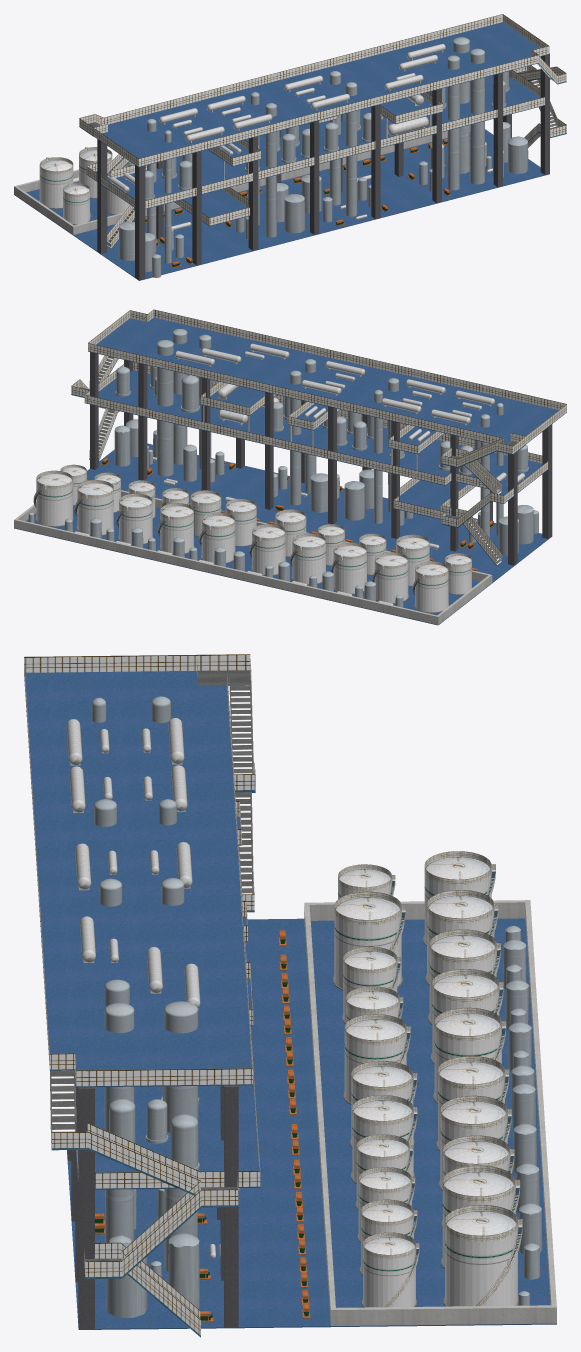
The model's file is tileset.gltf.
The picture shows the model from 3 angles, top to bottom: view 1: azimuth 30°, elevation 25°; view 2: azimuth 150°, elevation 25°; view 3: azimuth 270°, elevation 25°; orthographic projection. The views are drawn at different scales.
Visible parts, largest first — view 1: 400车间402工段-3F-1F, 400车间402工段-3F-3F, 400车间402工段-3F-2F; view 2: 400车间402工段-3F-1F, 400车间402工段-3F-3F, 400车间402工段-3F-2F; view 3: 400车间402工段-3F-1F, 400车间402工段-3F-3F, 400车间402工段-3F-2F.
Part boxes in pixels (bbox=[...]): 400车间402工段-3F-1F: bbox=[14, 79, 566, 280]; 400车间402工段-3F-3F: bbox=[79, 14, 549, 167]; 400车间402工段-3F-2F: bbox=[86, 53, 566, 210]; 400车间402工段-3F-1F: bbox=[14, 384, 552, 625]; 400车间402工段-3F-3F: bbox=[88, 309, 566, 454]; 400车间402工段-3F-2F: bbox=[71, 352, 552, 503]; 400车间402工段-3F-1F: bbox=[67, 793, 556, 1337]; 400车间402工段-3F-3F: bbox=[24, 654, 252, 1087]; 400车间402工段-3F-2F: bbox=[50, 687, 260, 1207].
Size of the model in its own units: 46.65 by 13.17 by 24.12.
Materials: 17 (17 with a texture image).
